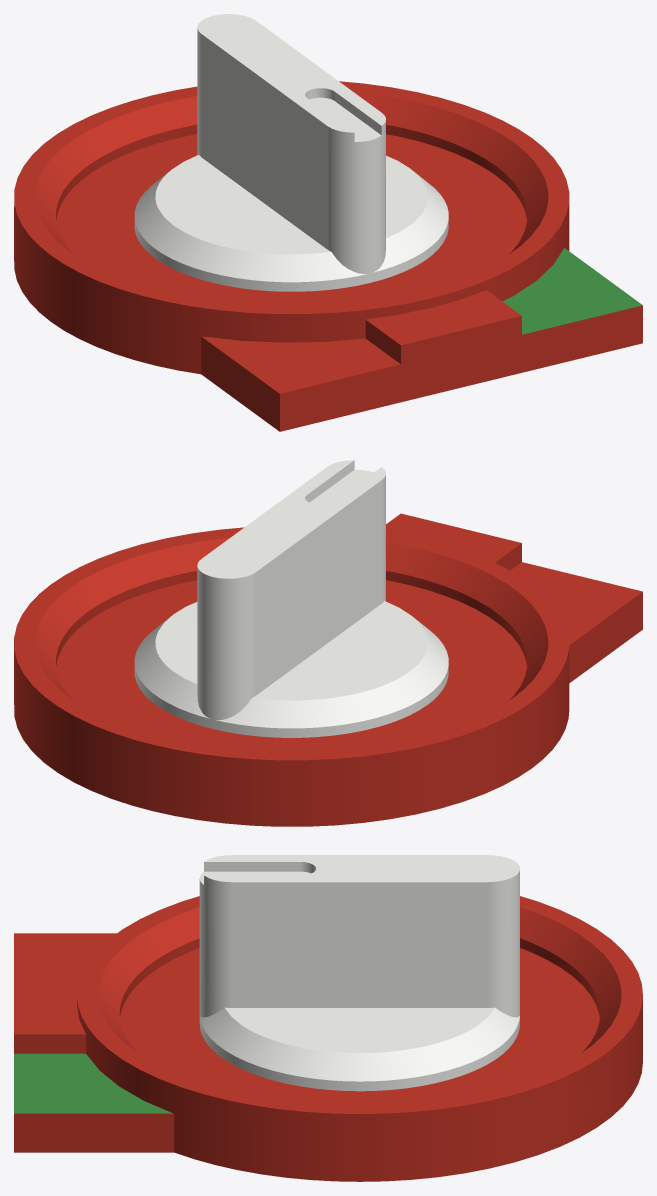
File: rotary-switch-2.fbx
The picture shows the model from 3 angles, top to bottom: view 1: azimuth 30°, elevation 25°; view 2: azimuth 150°, elevation 25°; view 3: azimuth 270°, elevation 25°; orthographic projection.
Parts seen in each view (by area): view 1: Body1, Body5; view 2: Body1, Body5; view 3: Body1, Body5.
Boxes of the visible parts, box(x1,y1,x2,y2) form: Body1: box(14, 81, 642, 431); Body5: box(134, 14, 448, 291); Body1: box(14, 513, 642, 826); Body5: box(134, 460, 448, 737); Body1: box(14, 896, 642, 1181); Body5: box(199, 855, 519, 1091).
Size of the model in its own units: 53 by 20 by 58.89.
